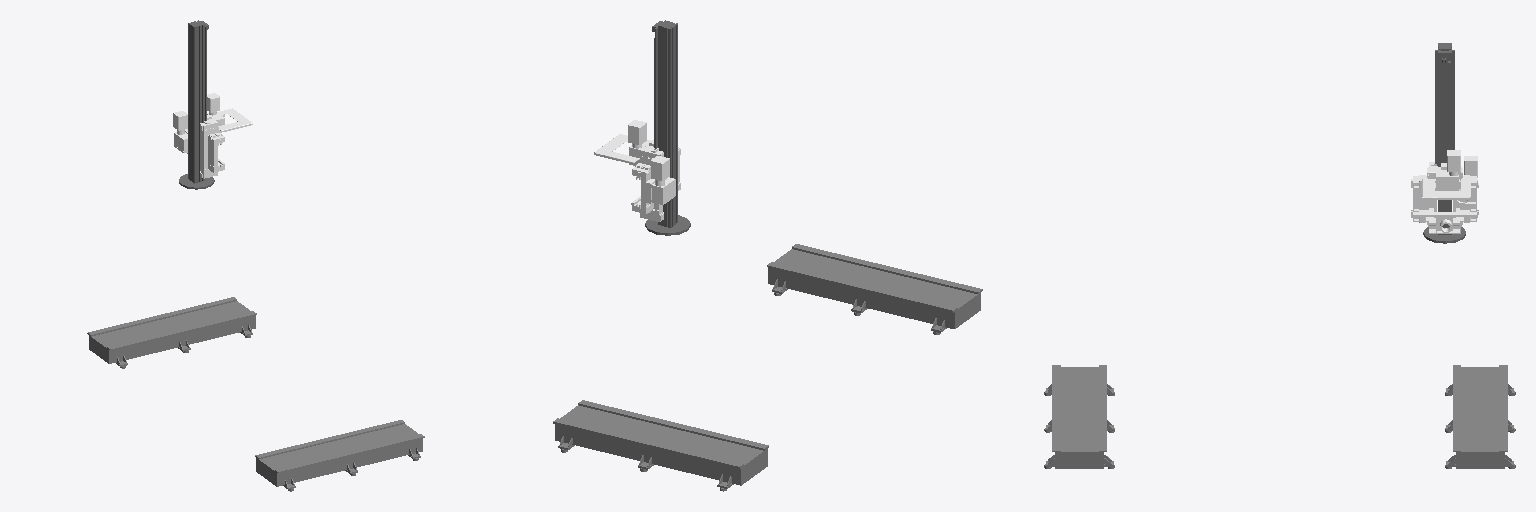
The robot description file, URDF, robot "gantry":
<?xml version="1.0"?>
<!-- created with Phobos 0.7 -->
  <robot name="gantry">

    <link name="link_arm">
      <inertial>
        <origin xyz="0 0 0" rpy="0 0 0"/>
        <mass value="100.0"/>
        <inertia ixx="77.157539" ixy="-0.43952" ixz="-0.013708" iyy="77.235046" iyz="-3e-06" izz="1.060431"/>
      </inertial>
      <visual name="visual_arm">
        <origin xyz="0 0 0" rpy="1.570796 0 0"/>
        <geometry>
          <mesh filename="../meshes/VIFS96.stl" scale="1.0 1.0 1.0"/>
        </geometry>
        <material name="VMtl98"/>
      </visual>
      <collision name="collision_arm">
        <origin xyz="0 0 1.34717" rpy="0 0 0"/>
        <geometry>
          <mesh filename="../meshes/Cylinder.stl" scale="0.188288 0.188288 0.188288"/>
        </geometry>
      </collision>
    </link>

    <link name="link_base">
      <inertial>
        <origin xyz="0 0 0" rpy="0 0 0"/>
        <mass value="100.0"/>
        <inertia ixx="71.623734" ixy="3.1e-05" ixz="0" iyy="788.87262" iyz="1.2e-05" izz="851.100647"/>
      </inertial>
      <visual name="visual_base">
        <origin xyz="0 0 0" rpy="1.570796 -1.570796 0"/>
        <geometry>
          <mesh filename="../meshes/VIFS01.001.stl" scale="1.0 1.0 1.0"/>
        </geometry>
        <material name="03___Default.001"/>
      </visual>
      <collision name="collision_base">
        <origin xyz="0 0 0" rpy="1.570796 -1.570796 0"/>
        <geometry>
          <mesh filename="../meshes/VIFS01.000.stl" scale="1.0 1.0 1.0"/>
        </geometry>
      </collision>
    </link>

    <link name="link_leg">
      <inertial>
        <origin xyz="0 0.114805 -0.069116" rpy="0 0 0"/>
        <mass value="1000.0"/>
        <inertia ixx="1880.551147" ixy="0.000265" ixz="0" iyy="7958.77002" iyz="-13.379694" izz="6216.929688"/>
      </inertial>
      <visual name="visual_leg">
        <origin xyz="0 0.114805 -0.069116" rpy="1.570796 -1.570796 0"/>
        <geometry>
          <mesh filename="../meshes/VIFS42.001.stl" scale="1.0 1.0 1.0"/>
        </geometry>
        <material name="01___Default.001"/>
      </visual>
      <collision name="collision_leg">
        <origin xyz="0.000315 0.114805 -0.069116" rpy="1.570796 -1.570796 0"/>
        <geometry>
          <mesh filename="../meshes/VIFS42.000.stl" scale="1.0 1.0 1.0"/>
        </geometry>
      </collision>
    </link>

    <link name="link_trolley">
      <inertial>
        <origin xyz="0 0 0" rpy="0 0 0"/>
        <mass value="100.0"/>
        <inertia ixx="15.599652" ixy="1.71094" ixz="1.886529" iyy="9.19625" iyz="0.938979" izz="14.022485"/>
      </inertial>
      <visual name="visual_trolley">
        <origin xyz="0 0 0" rpy="-3.141593 0 0"/>
        <geometry>
          <mesh filename="../meshes/VIFS43.001.stl" scale="1.0 1.0 1.0"/>
        </geometry>
        <material name="02___Default.001"/>
      </visual>
      <collision name="collision_trolley">
        <origin xyz="-0.020567 0.254046 -0.042038" rpy="1.570796 0 0"/>
        <geometry>
          <mesh filename="../meshes/Cube.005.stl" scale="0.129538 0.485533 0.188935"/>
        </geometry>
      </collision>
    </link>

    <link name="robot_connection">
    </link>

    <link name="root">
    </link>

    <joint name="link_arm" type="prismatic">
      <origin xyz="-0.164527 -0.651668 -0.053205" rpy="1.570796 0 0"/>
      <parent link="link_trolley"/>
      <child link="link_arm"/>
      <axis xyz="0 0 1.0"/>
      <limit lower="-1.6" upper="0" effort="1.0" velocity="0.55"/>
    </joint>

    <joint name="link_base" type="fixed">
      <origin xyz="0 0 0" rpy="0 1.570796 0"/>
      <parent link="root"/>
      <child link="link_base"/>
    </joint>

    <joint name="link_leg" type="prismatic">
      <origin xyz="-2.570369 -0.057403 0.844145" rpy="0 0 0"/>
      <parent link="link_base"/>
      <child link="link_leg"/>
      <axis xyz="0 0 -1.0"/>
      <limit lower="0" upper="1.54" effort="1.0" velocity="1.0"/>
    </joint>

    <joint name="link_trolley" type="prismatic">
      <origin xyz="-1.277963 2.407403 -0.476427" rpy="-1.570796 -1.570796 0"/>
      <parent link="link_leg"/>
      <child link="link_trolley"/>
      <axis xyz="0 0 -1.0"/>
      <limit lower="0" upper="4.7" effort="1.0" velocity="0.83"/>
    </joint>

    <joint name="robot_connection" type="fixed">
      <origin xyz="-0.026405 0.000343 -1.392678" rpy="-3.141593 0 0"/>
      <parent link="link_arm"/>
      <child link="robot_connection"/>
    </joint>

    <material name="01___Default.001">
      <color rgba="0.1922 0.4588 1.0 1.0"/>
    </material>

    <material name="02___Default.001">
      <color rgba="1.0 1.0 1.0 1.0"/>
    </material>

    <material name="03___Default.001">
      <color rgba="0.5882 0.5882 0.5882 1.0"/>
    </material>

    <material name="VMtl98">
      <color rgba="0.5 0.5 0.5 1.0"/>
    </material>

  </robot>

--- Facts derived from the render (not from the file) ---
Views: 3 orthographic renders of the robot side by side, from view 1: azimuth 30°, elevation 25°; view 2: azimuth 150°, elevation 25°; view 3: azimuth 270°, elevation 25°.
Model gantry with 6 links and 5 joints (3 prismatic, 2 fixed), rooted at root, posed all joints at 0.
Links seen in each view (by area): view 1: link_base, link_arm, link_trolley; view 2: link_base, link_arm, link_trolley; view 3: link_base, link_trolley, link_arm.
Link boxes in pixels (x1,y1,x2,y2): link_base: [87, 297, 424, 491]; link_arm: [179, 20, 214, 189]; link_trolley: [173, 93, 252, 178]; link_base: [553, 244, 982, 491]; link_arm: [645, 20, 690, 235]; link_trolley: [594, 120, 680, 221]; link_base: [1044, 365, 1515, 468]; link_trolley: [1411, 150, 1478, 233]; link_arm: [1423, 43, 1465, 243].
Size in the robot's own frame: 2.81 by 6.57 by 6.01 metres.
Meshes: 4 distinct files referenced, 3 mesh visuals loaded (3 binary STL); not drawn: 1 (reference not matched to a file when rendering).